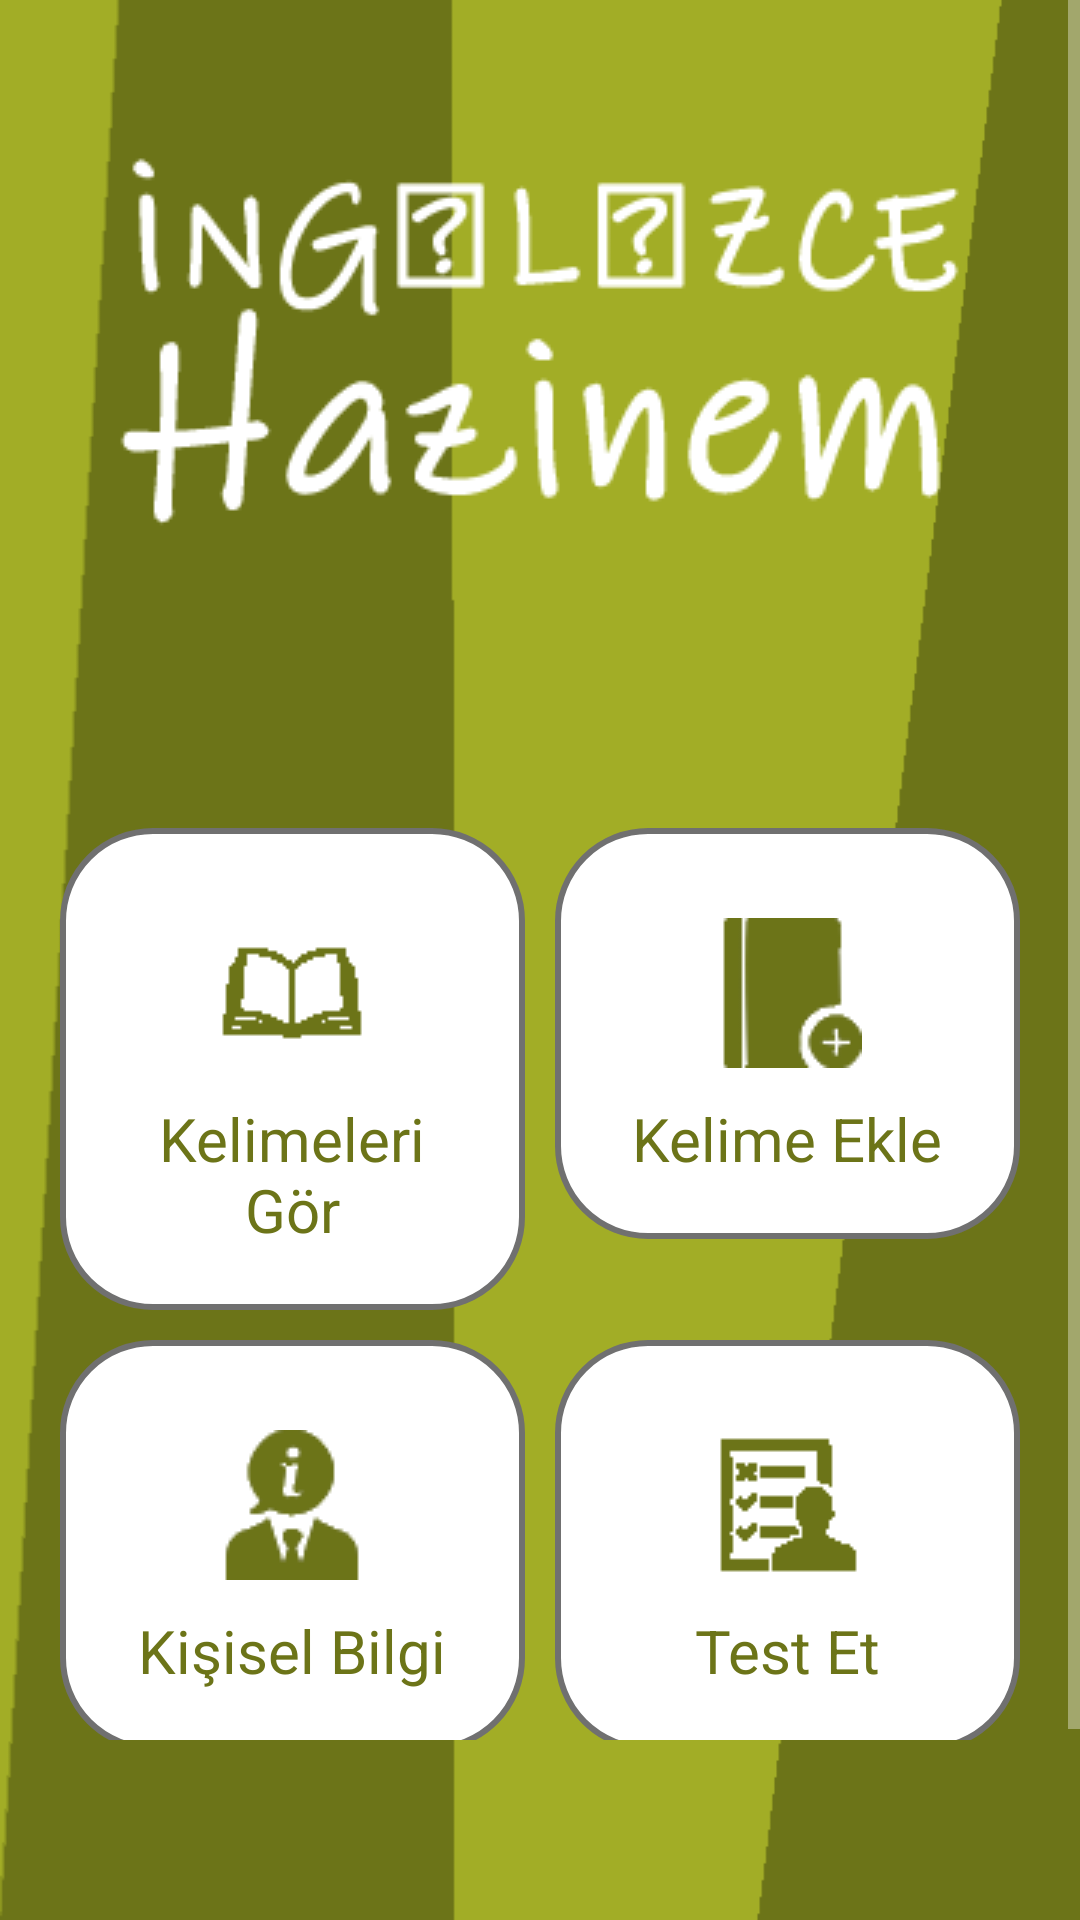

Icon click points for this 1080w x 1920h phone screenshot, format point (x, y):
kelimelerigor: point (292, 993)
